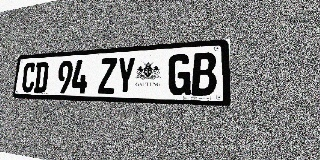4: (71, 59, 89, 94)
9: (56, 60, 73, 93)
B: (191, 52, 216, 96)
C: (21, 62, 36, 93)
D: (33, 62, 49, 93)
G: (168, 53, 191, 95)
Y: (116, 57, 136, 94)
Z: (98, 58, 117, 94)
